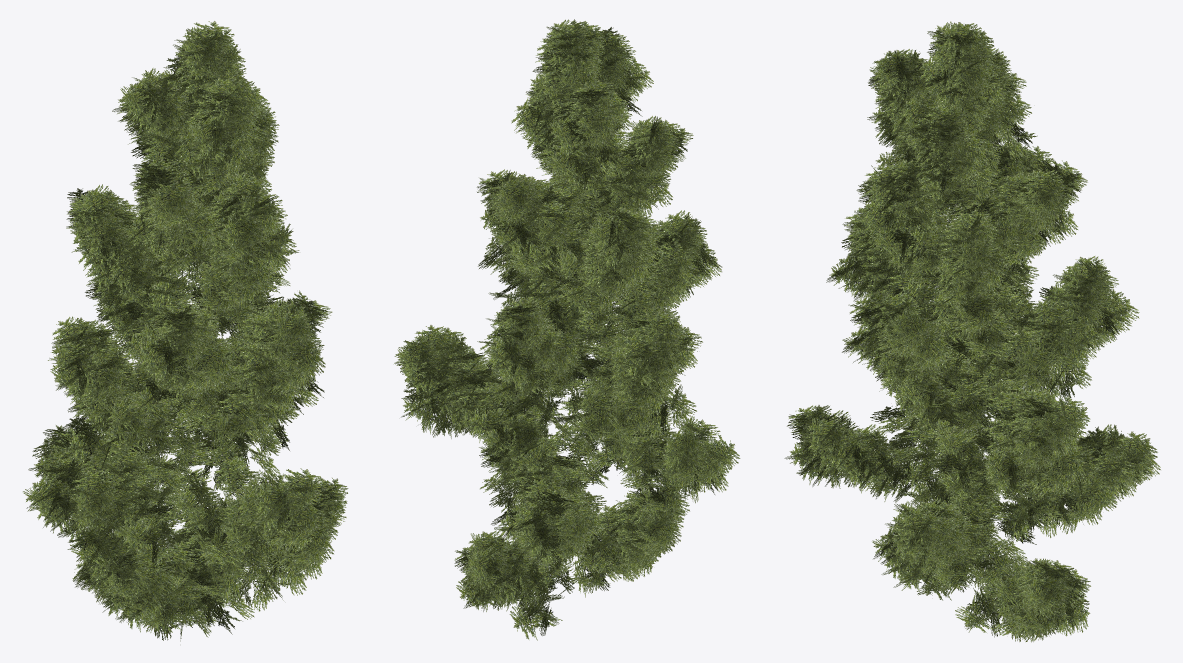
Rendered from tree.obj.
The picture shows the model from 3 angles, left to right: view 1: azimuth 30°, elevation 25°; view 2: azimuth 150°, elevation 25°; view 3: azimuth 270°, elevation 25°; orthographic projection. The views are drawn at different scales.
Visible parts, largest first — view 1: leaves; view 2: leaves; view 3: leaves.
Boxes of the visible parts, x1=… form: leaves: x1=23, y1=21, x2=348, y2=641; leaves: x1=394, y1=19, x2=740, y2=640; leaves: x1=784, y1=21, x2=1160, y2=642.
Size of the model in its own units: 5.32 by 9.67 by 5.53.
Materials: 1 (1 with a texture image).
